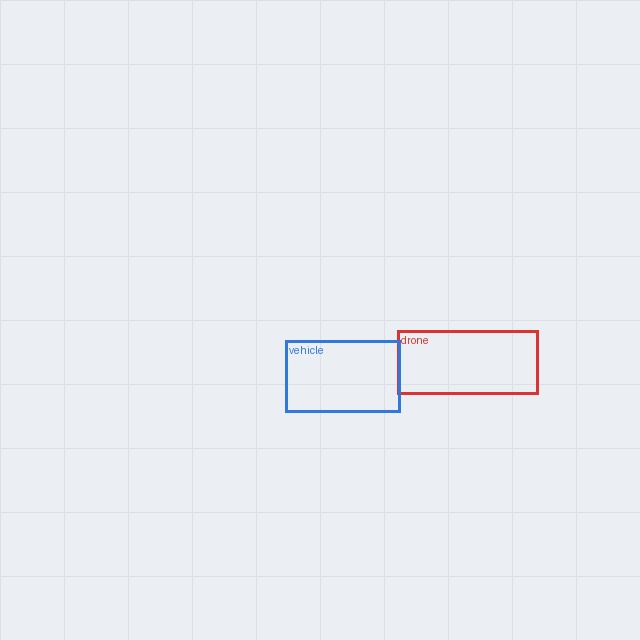drone: (397, 330, 538, 394)
vehicle: (285, 340, 400, 412)
